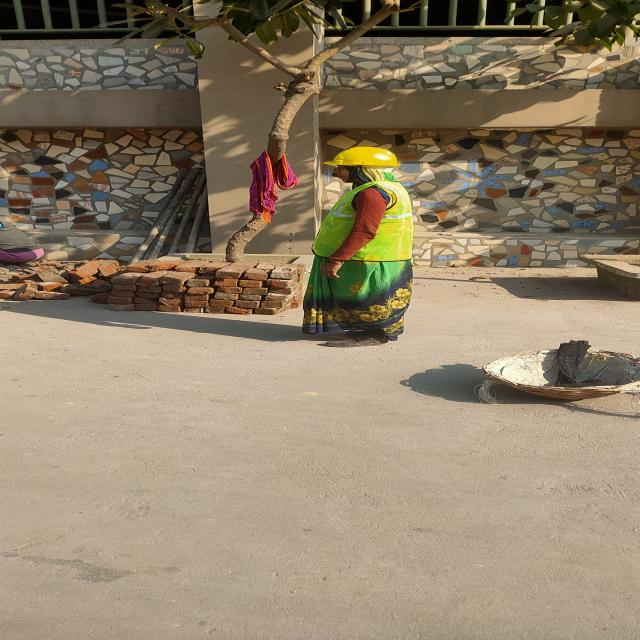safe: (300, 146, 417, 349)
